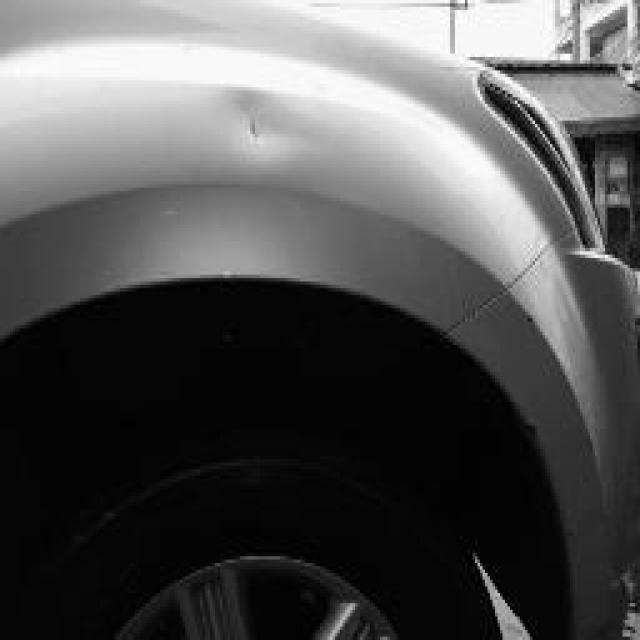Fender: (25, 47, 505, 332)
